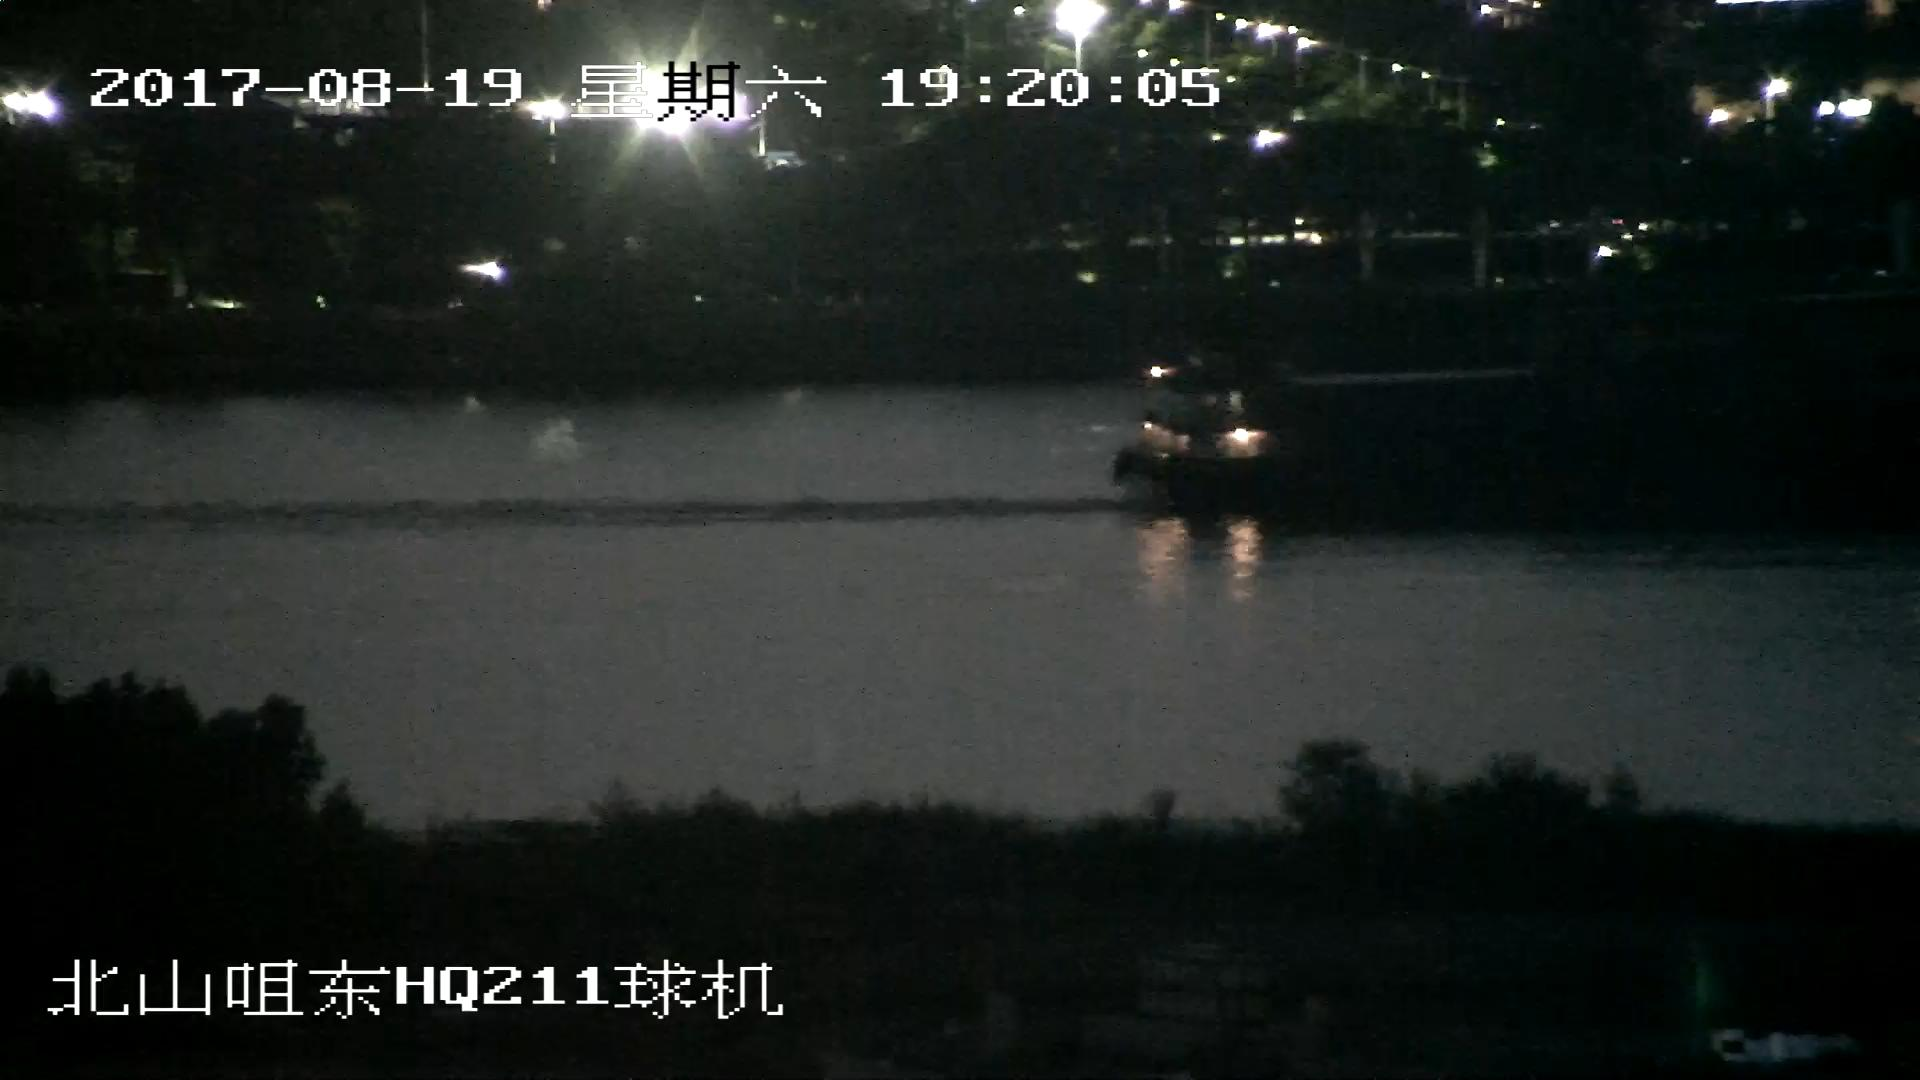container ship: (1153, 312, 1920, 519)
